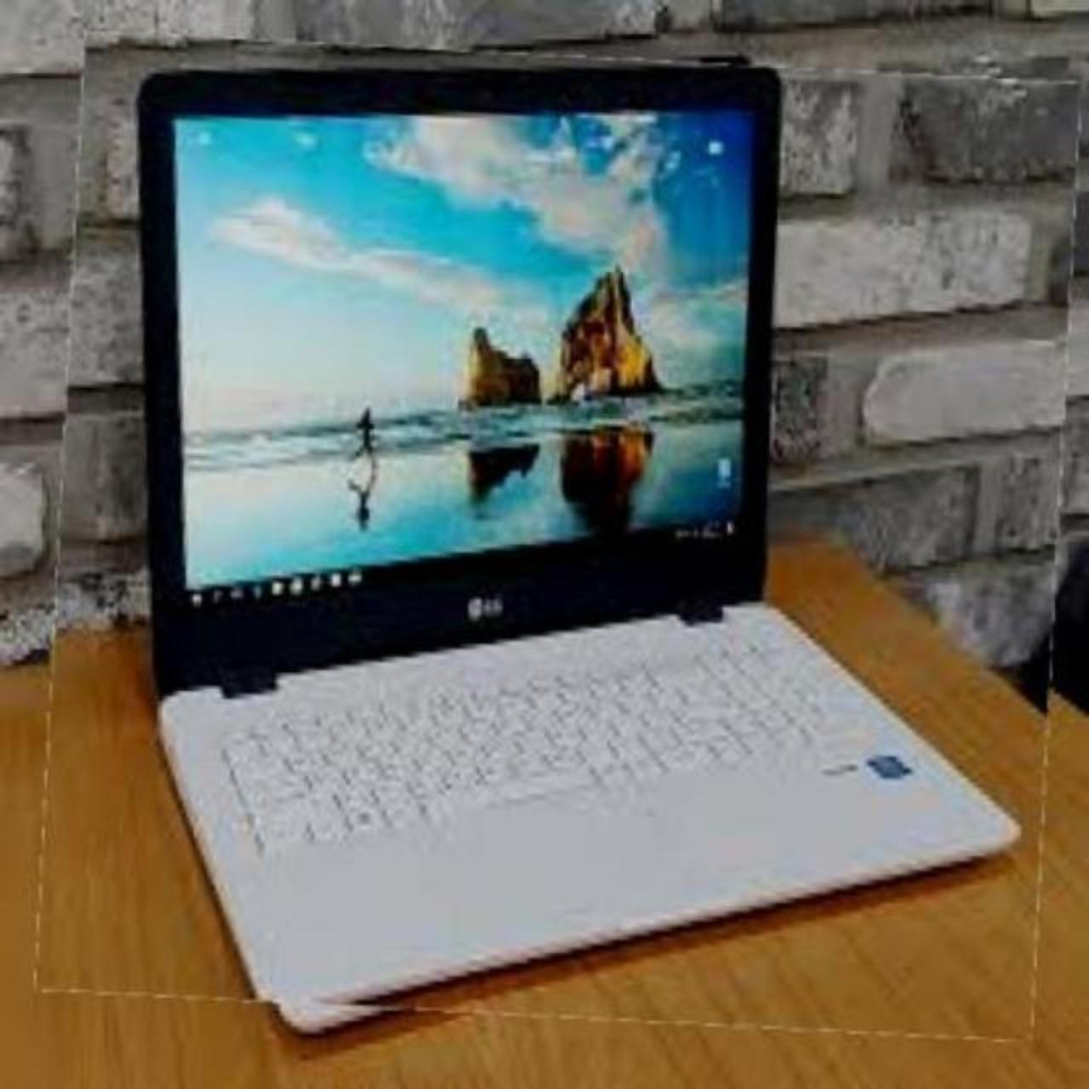laptop: (48, 44, 1069, 1028)
